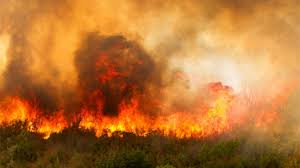fire: (1, 95, 211, 136)
smoke: (10, 31, 190, 94)
